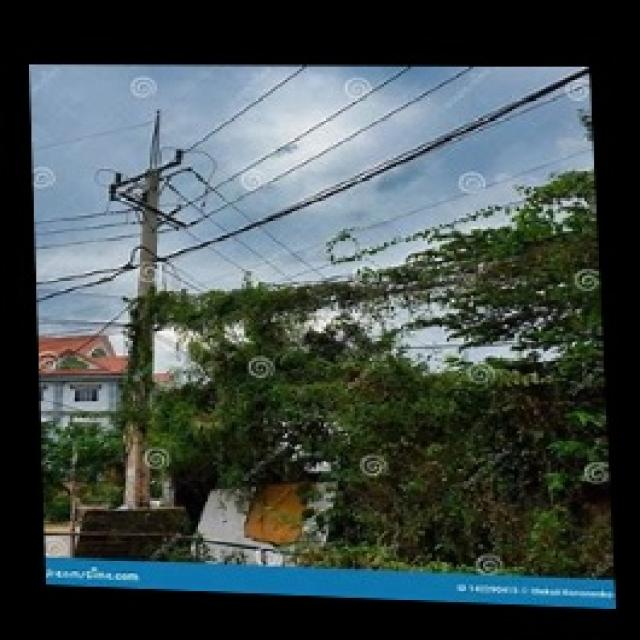critical vegetation: (135, 263, 599, 387)
